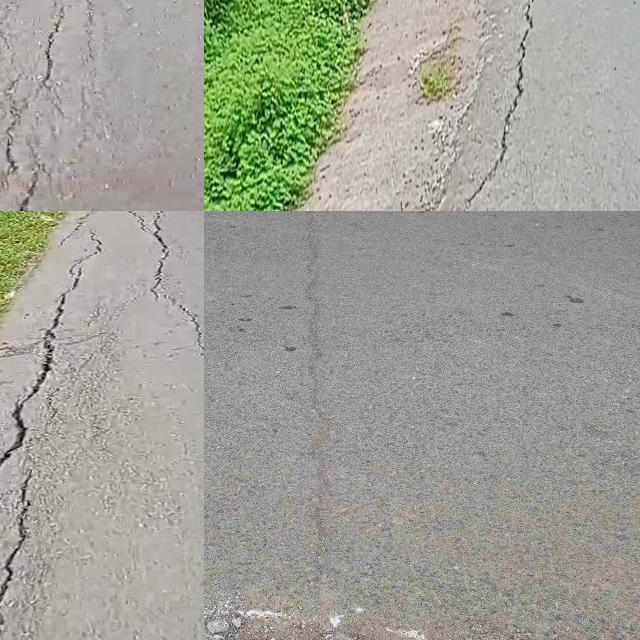Memanjang: (0, 252, 106, 517), (286, 211, 350, 640), (438, 0, 545, 211), (136, 211, 204, 371), (0, 468, 42, 640)
